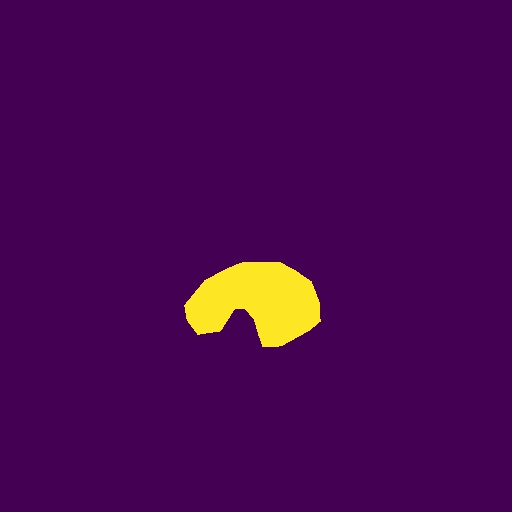Gliomia_tumour: (184, 262, 321, 347)
